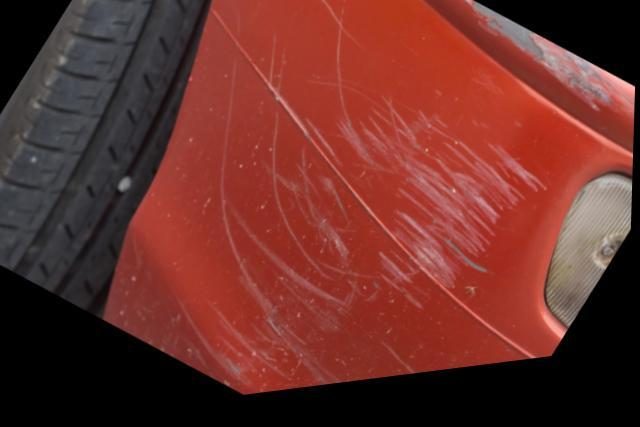scratch: (151, 0, 544, 402), (429, 0, 636, 149)
